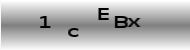1: (38, 15, 52, 29)
B: (113, 14, 128, 29)
E: (97, 7, 110, 21)
c: (67, 27, 79, 38)
x: (127, 17, 141, 29)
